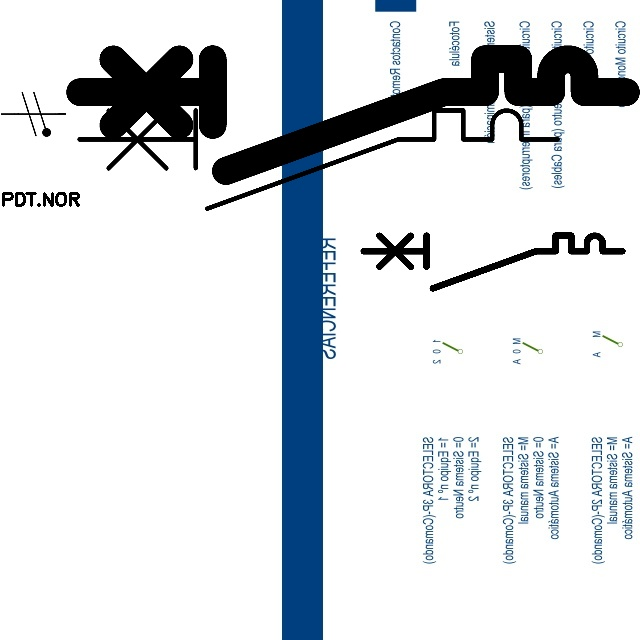interruptor_termomagnetico: (65, 45, 639, 185), (67, 98, 570, 221), (357, 229, 629, 295)
